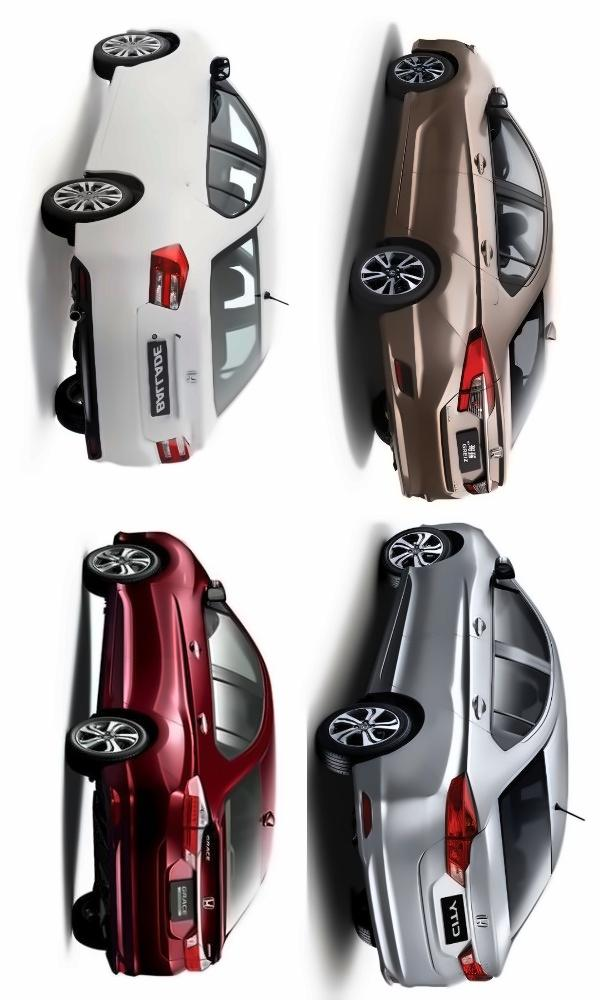Car boot: (131, 243, 235, 448), (416, 807, 514, 986), (157, 799, 238, 977), (439, 358, 514, 499)
Fender - -F-L-: (400, 34, 514, 112), (389, 522, 516, 585), (108, 537, 220, 597), (114, 25, 237, 77)
Fender - -R-L-: (380, 222, 531, 347), (354, 676, 553, 764), (90, 705, 262, 797), (79, 163, 250, 233)
Passenger-s door - -F-L-: (90, 581, 276, 695), (90, 61, 274, 164), (387, 93, 553, 207), (381, 577, 567, 670)
Passenger-s door - -R-L-: (359, 635, 567, 750), (376, 170, 554, 297), (89, 649, 277, 748), (83, 126, 279, 214)
Rear bumper: (349, 753, 442, 989), (374, 298, 471, 504), (89, 765, 157, 982), (68, 221, 112, 468)
Rear light - -L-: (444, 772, 482, 885), (456, 326, 499, 419), (180, 773, 211, 871), (147, 244, 191, 311)
Rear light - -R-: (456, 939, 494, 982), (180, 929, 212, 973), (154, 433, 194, 466), (459, 478, 491, 495)
Side bumper - -L-: (361, 565, 430, 697), (377, 89, 429, 241), (92, 579, 140, 714), (80, 63, 136, 176)
Side mirror - -L-: (483, 552, 517, 586), (202, 578, 227, 609), (206, 57, 233, 84), (486, 84, 508, 117)
